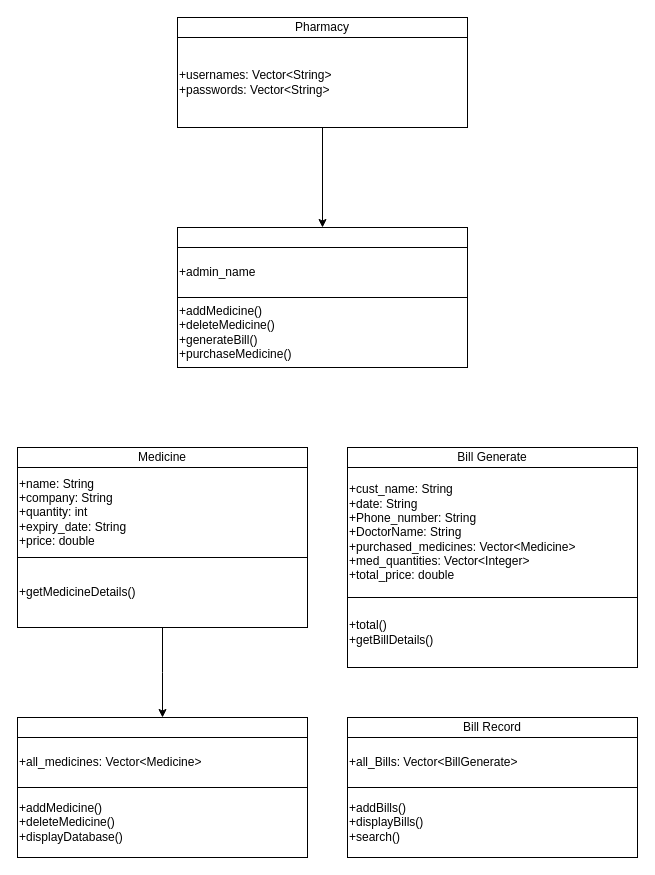
Image size: 655x875. Some labels were removed from this diagram. The box of each missing label's shape, as (x1, y1, x2, y2) in pixels:
Admin: (176, 226, 468, 248)
Medicine Datbase: (16, 716, 308, 738)
